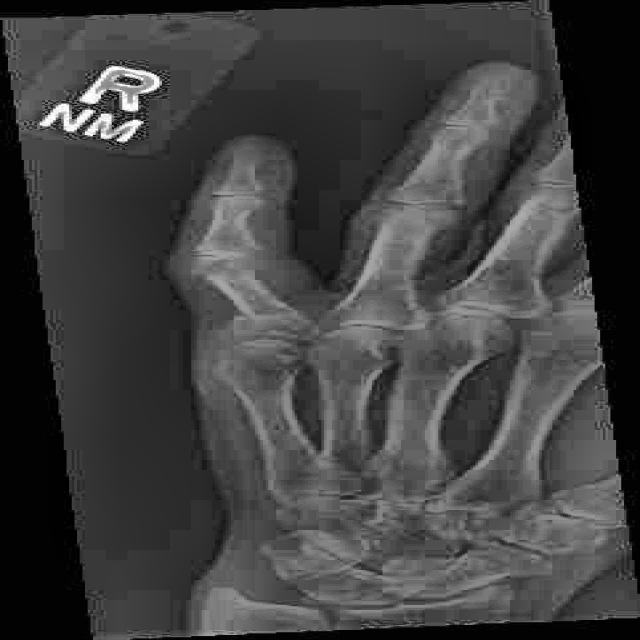fingers positive: (216, 304, 326, 346), (180, 262, 279, 285)
